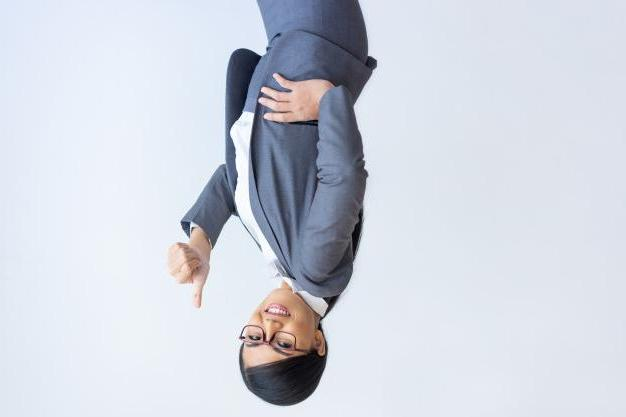thumbsdown: (167, 242, 203, 309)
